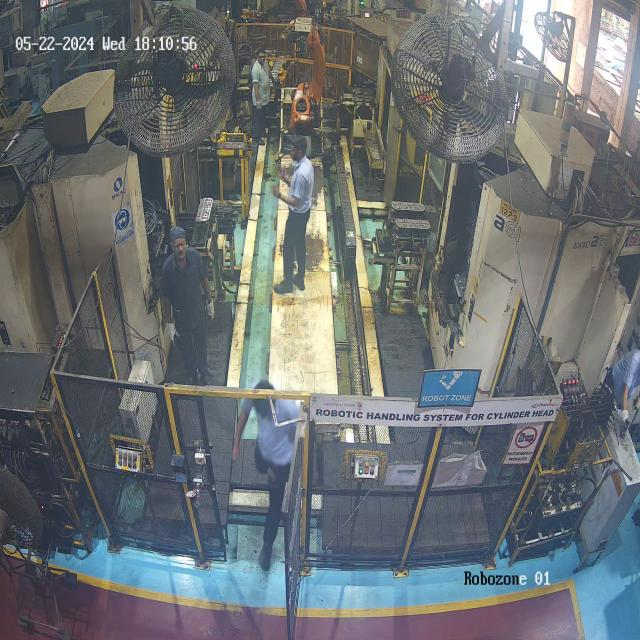person: (232, 387, 308, 589), (145, 219, 231, 396), (270, 139, 325, 301), (239, 47, 289, 149)
